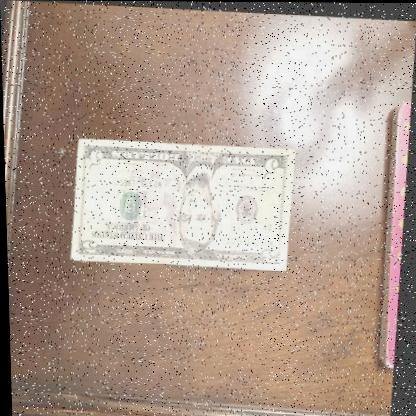dollar_front: (70, 136, 301, 269)
